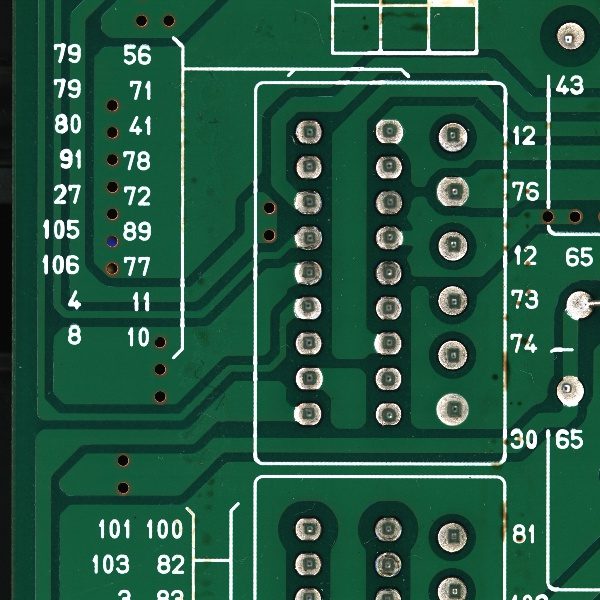Circle: (431, 387, 475, 430), (432, 173, 476, 209), (551, 371, 588, 413), (434, 334, 471, 372), (435, 117, 474, 153), (558, 287, 594, 326), (434, 281, 471, 318), (433, 230, 474, 263), (435, 519, 471, 555), (370, 257, 408, 290), (369, 186, 408, 218), (290, 364, 331, 394), (288, 294, 330, 323), (553, 20, 588, 53), (370, 326, 405, 358), (288, 548, 325, 578), (369, 549, 406, 578), (373, 116, 406, 148), (371, 513, 405, 544), (290, 400, 325, 430), (291, 222, 327, 251), (371, 223, 407, 252), (290, 329, 327, 357), (289, 514, 326, 542), (372, 293, 405, 324), (372, 398, 406, 428), (293, 258, 324, 288), (373, 152, 405, 181), (371, 363, 403, 391), (293, 117, 323, 146), (293, 152, 323, 181), (294, 187, 324, 216)
